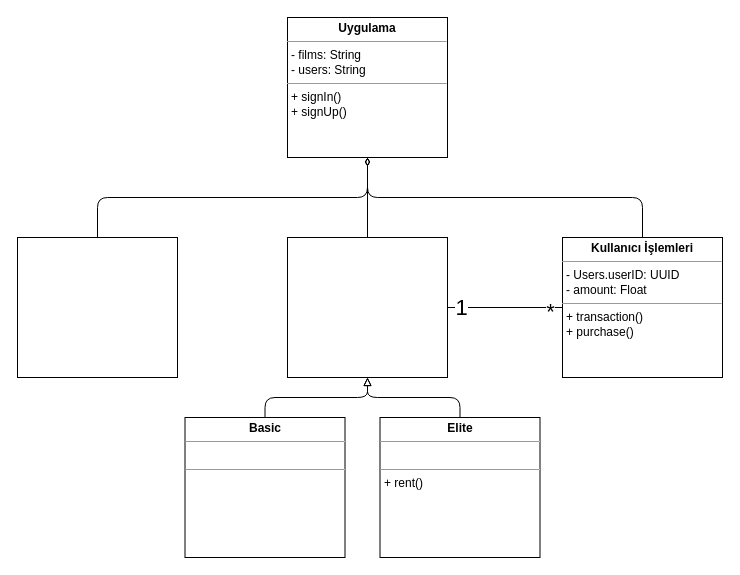
Image size: 740x575. Some labels were removed from this diagram. Each missing label, with the centre of its shape:
"Filmler - name: String - id: String - actors: String - category: String + sort()" belongs at pixel 97 307.
"Kullanıcılar(Users) - userName: String - userId: UUID - balance: Float + buy()" belongs at pixel 367 307.
